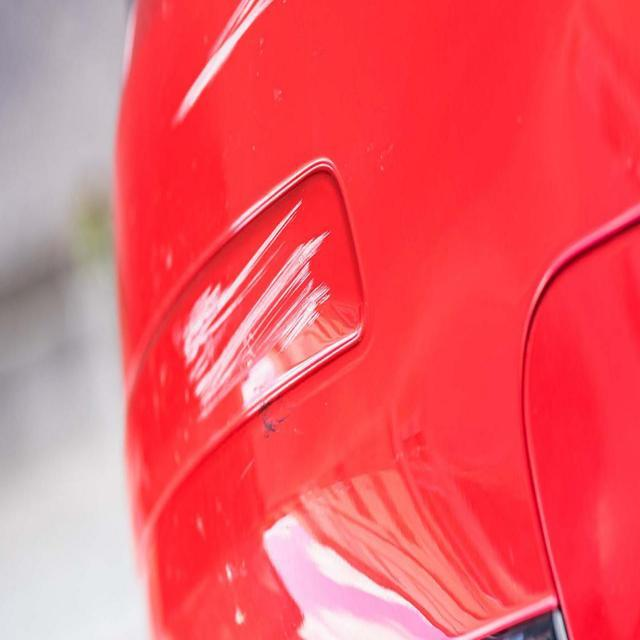scratch: (174, 178, 336, 418)
